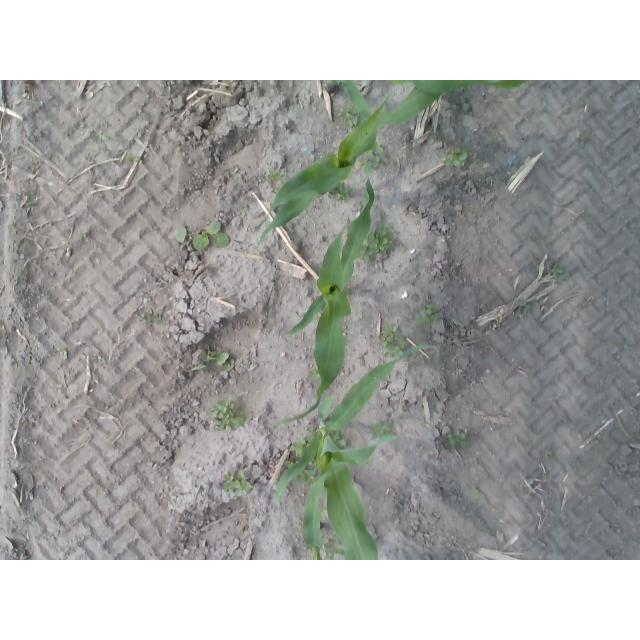Maize: (275, 344, 438, 561), (274, 180, 374, 425), (257, 94, 391, 246), (324, 80, 529, 120), (300, 460, 346, 561)
Weeds: (211, 394, 253, 430), (175, 224, 231, 250), (192, 347, 231, 373), (369, 223, 396, 254), (444, 148, 468, 167), (236, 468, 252, 496), (446, 432, 467, 449), (140, 312, 164, 325), (384, 343, 404, 358), (416, 315, 440, 327), (370, 422, 387, 438), (381, 324, 399, 339), (342, 110, 357, 127), (224, 472, 238, 490), (337, 185, 352, 200), (547, 263, 562, 278), (267, 169, 286, 180), (424, 304, 441, 314), (368, 154, 380, 167), (516, 305, 531, 314), (361, 249, 373, 260), (579, 134, 589, 147), (98, 131, 111, 141), (373, 142, 383, 154), (290, 446, 302, 455), (80, 232, 90, 241), (380, 337, 388, 347), (129, 156, 140, 163), (309, 370, 318, 378), (333, 431, 340, 441), (338, 440, 347, 447), (302, 437, 311, 444), (61, 350, 68, 359), (533, 263, 539, 273), (161, 333, 171, 339), (545, 451, 553, 458), (471, 489, 479, 496), (145, 297, 152, 303), (532, 235, 537, 239)
